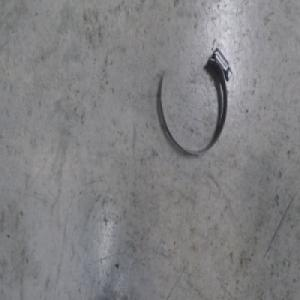AdjustableClamp: (157, 45, 231, 161)
